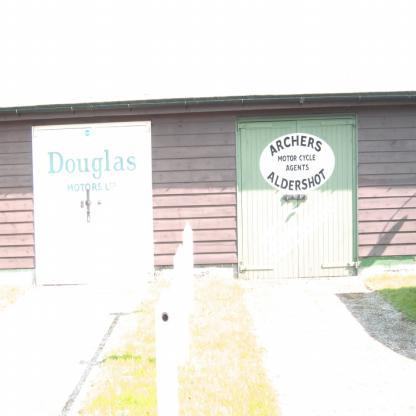door: (236, 120, 298, 278), (296, 120, 355, 278), (35, 130, 94, 286), (93, 124, 148, 284)
hinged: (240, 264, 243, 272), (353, 119, 356, 126), (355, 261, 358, 268), (238, 124, 240, 131)
knob: (87, 200, 90, 205), (99, 200, 101, 205)
